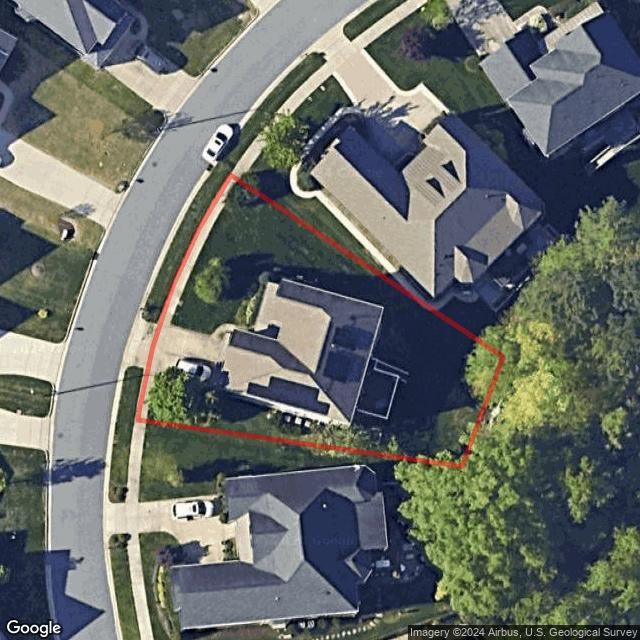Driveway: (147, 321, 232, 391), (356, 358, 401, 419)
Extra-Driveway: (126, 316, 163, 372)
Extra-Lawn: (140, 168, 230, 323), (117, 367, 144, 421)
House: (216, 279, 385, 428)
Lawn: (136, 176, 504, 467)
Other: (234, 267, 284, 327)
Sidewalk: (159, 175, 242, 323), (135, 371, 157, 424), (213, 324, 266, 336)
